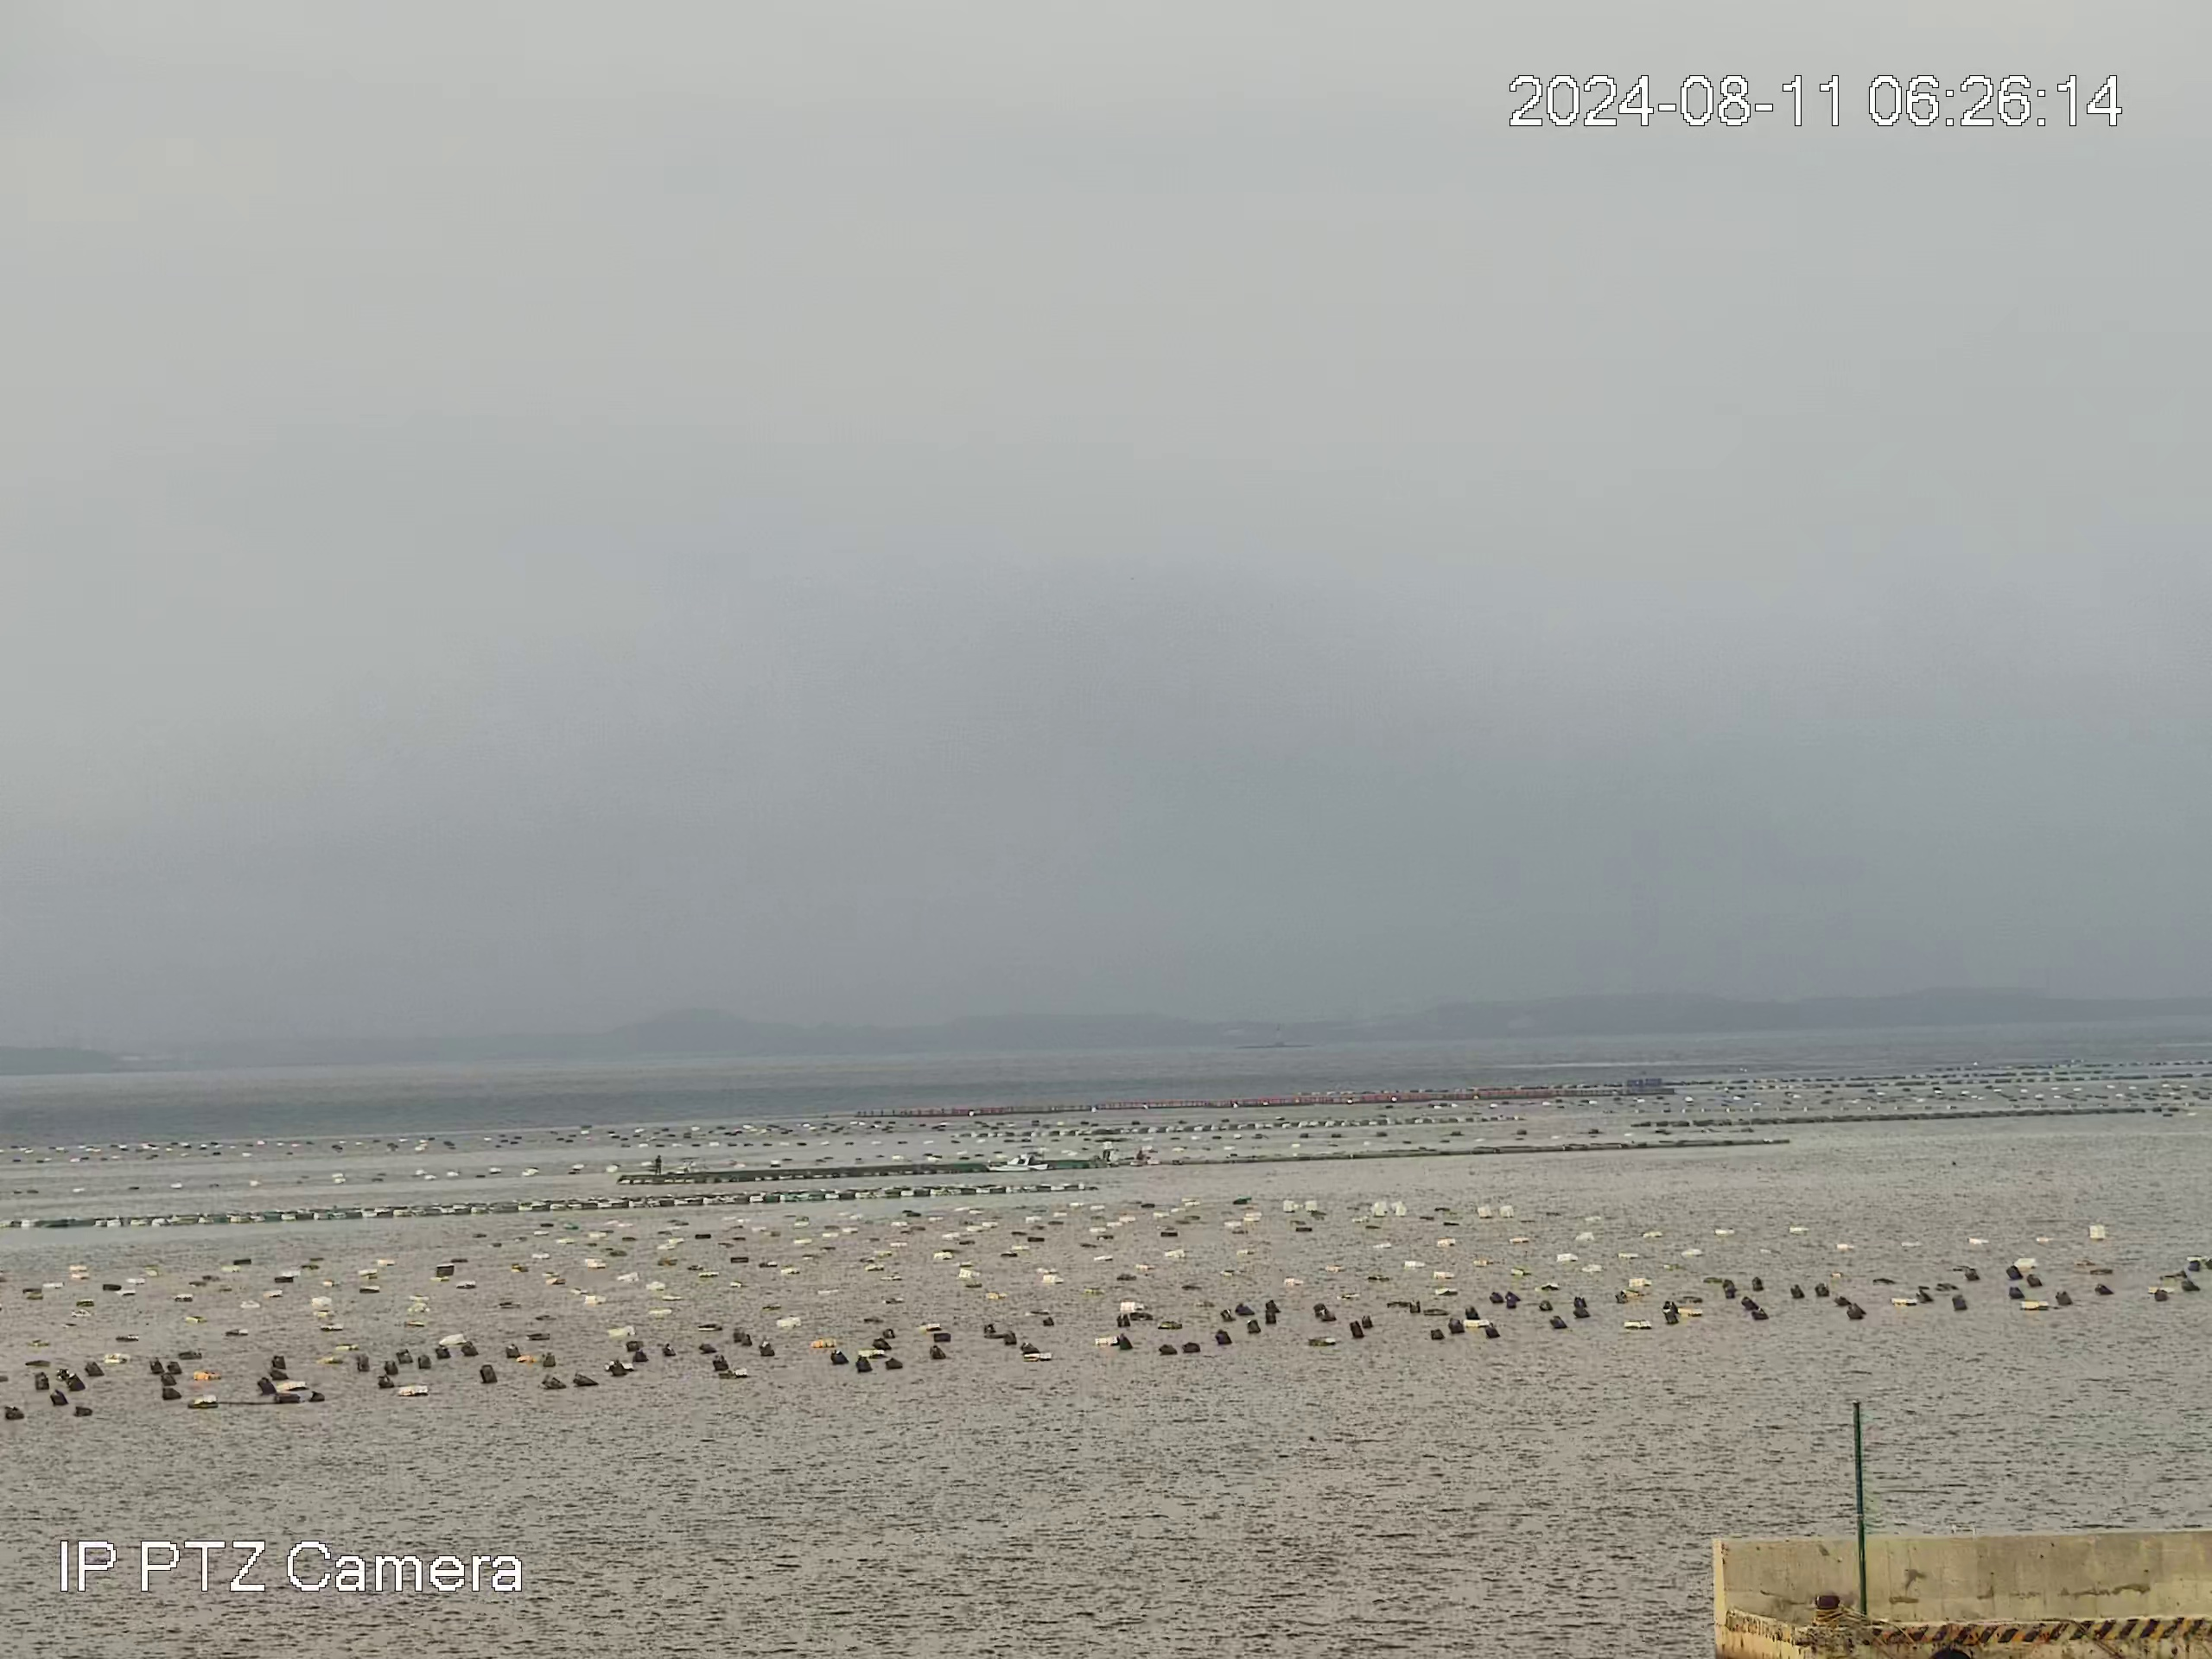boat: (984, 1150, 1050, 1173)
